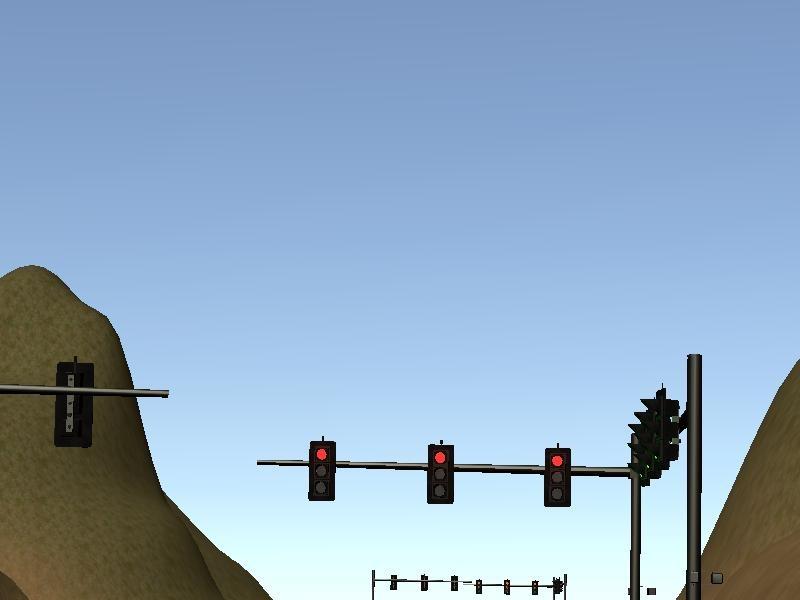red: (421, 441, 460, 511), (540, 444, 574, 514), (307, 438, 342, 505)
